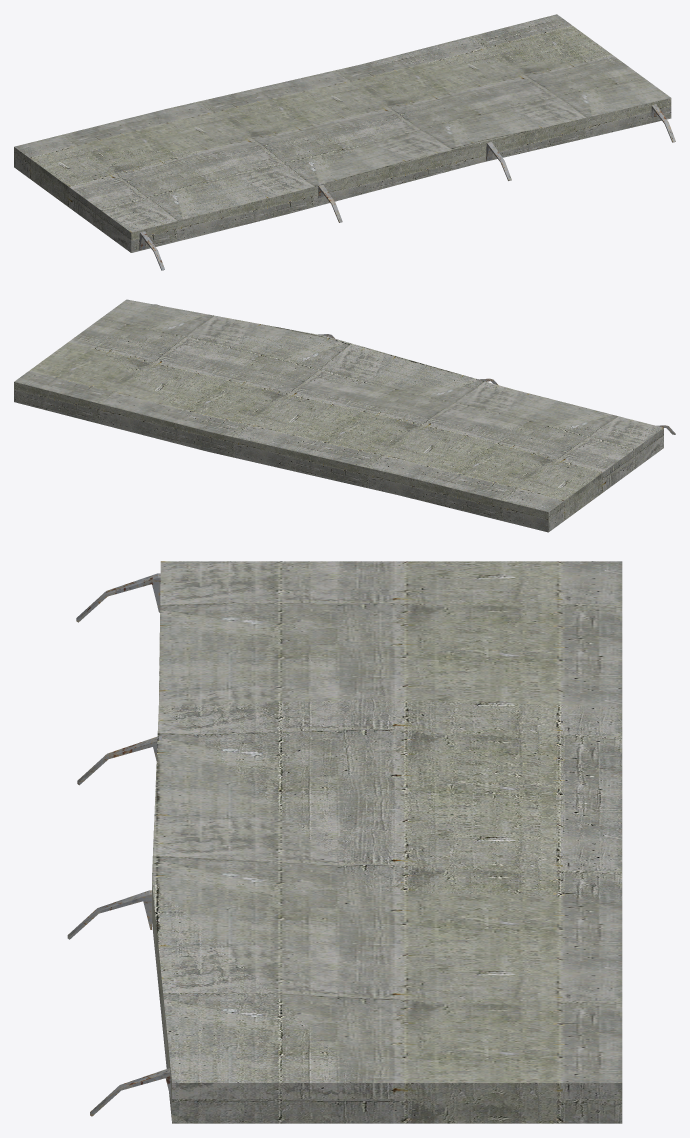
Rendered from mauer_C.obj.
The picture shows the model from 3 angles, top to bottom: view 1: azimuth 30°, elevation 25°; view 2: azimuth 150°, elevation 25°; view 3: azimuth 270°, elevation 25°; orthographic projection. The views are drawn at different scales.
Visible parts, largest first — view 1: Box011; view 2: Box011; view 3: Box011.
Part boxes in pixels (x1,y1,x2,y2): Box011: (14, 14, 675, 270); Box011: (14, 299, 675, 532); Box011: (67, 561, 622, 1123).
Size of the model in its own units: 12.05 by 0.823 by 5.42.
Materials: 4 (4 with a texture image).
